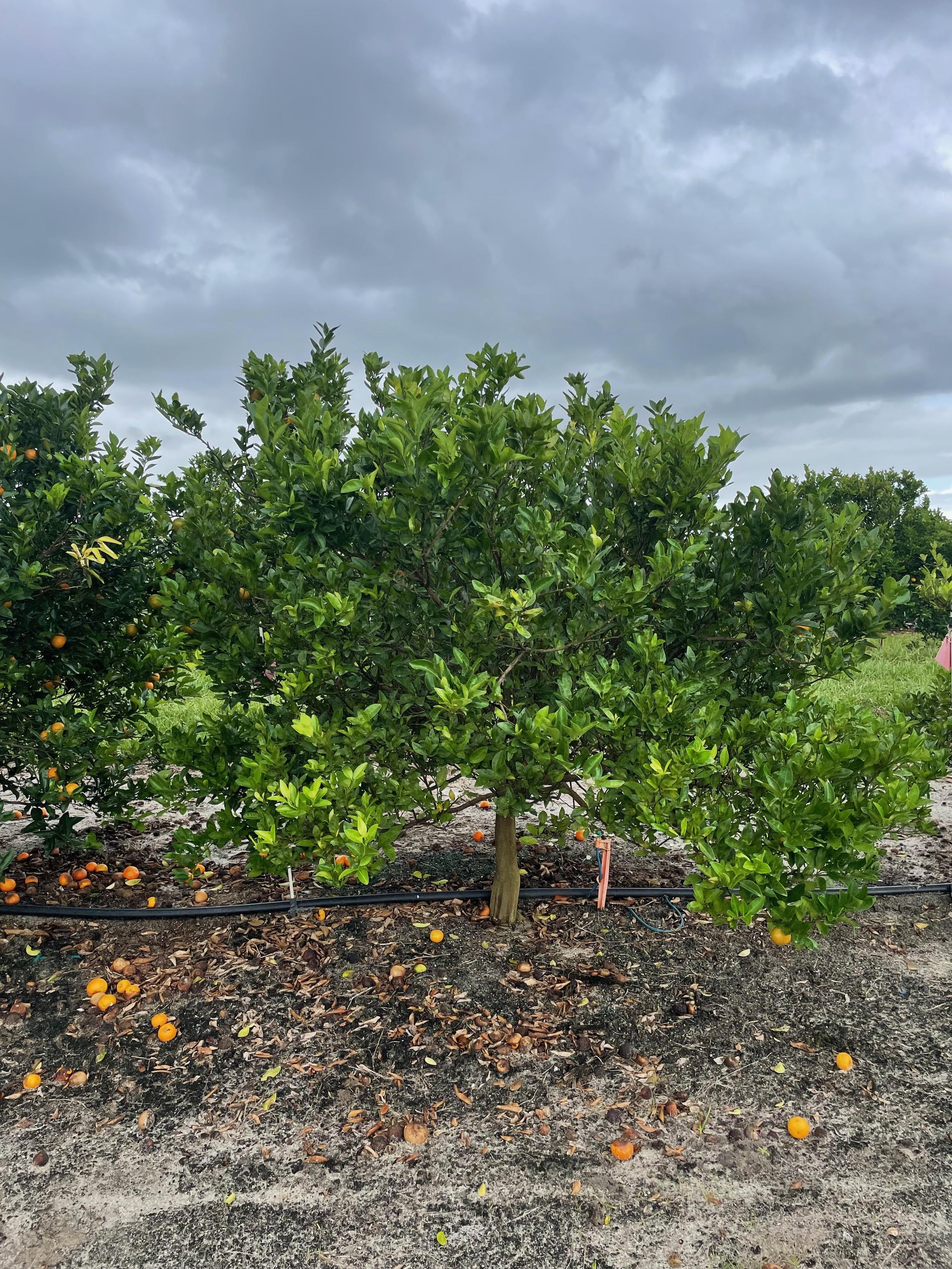fruit_on_ground: (768, 923, 793, 947), (0, 440, 19, 463), (790, 616, 811, 636), (170, 516, 189, 534), (146, 593, 164, 611), (49, 632, 68, 649), (64, 780, 81, 797), (45, 765, 62, 782), (24, 444, 39, 461), (235, 586, 250, 601), (124, 623, 139, 638), (50, 720, 66, 734), (40, 677, 55, 691), (38, 728, 52, 742), (0, 596, 13, 610), (49, 673, 62, 687), (57, 579, 72, 591), (121, 727, 134, 740), (56, 788, 68, 802), (0, 481, 8, 498), (143, 614, 154, 626), (149, 671, 160, 682), (144, 680, 155, 691)
fruit_on_tree: (404, 1120, 430, 1146), (786, 1113, 811, 1140), (609, 1137, 635, 1161), (833, 1049, 856, 1073), (93, 991, 118, 1012), (86, 977, 110, 998), (137, 1108, 158, 1131), (20, 1070, 42, 1091), (117, 976, 140, 996), (68, 1069, 89, 1088), (109, 954, 130, 973), (152, 1014, 173, 1032), (157, 1023, 178, 1041), (668, 998, 688, 1016), (427, 926, 446, 944), (332, 851, 352, 868), (32, 1149, 50, 1167), (515, 958, 534, 975), (149, 1009, 170, 1024), (662, 1098, 679, 1116), (182, 872, 201, 888), (121, 864, 140, 880), (389, 962, 406, 979), (54, 1065, 70, 1082), (191, 888, 208, 904), (56, 870, 73, 886), (1, 876, 18, 892), (120, 960, 138, 975), (226, 863, 243, 878), (74, 876, 91, 891), (477, 903, 493, 918), (471, 827, 486, 842), (188, 877, 204, 891), (3, 890, 19, 904), (295, 868, 312, 881), (147, 991, 164, 1004), (73, 867, 87, 882), (23, 875, 38, 889), (572, 826, 586, 841), (92, 859, 108, 872), (192, 860, 206, 874), (82, 860, 96, 873), (16, 849, 29, 862), (145, 894, 158, 907), (478, 798, 492, 810), (257, 848, 270, 860), (11, 808, 24, 820), (36, 806, 48, 818), (50, 845, 61, 855)
